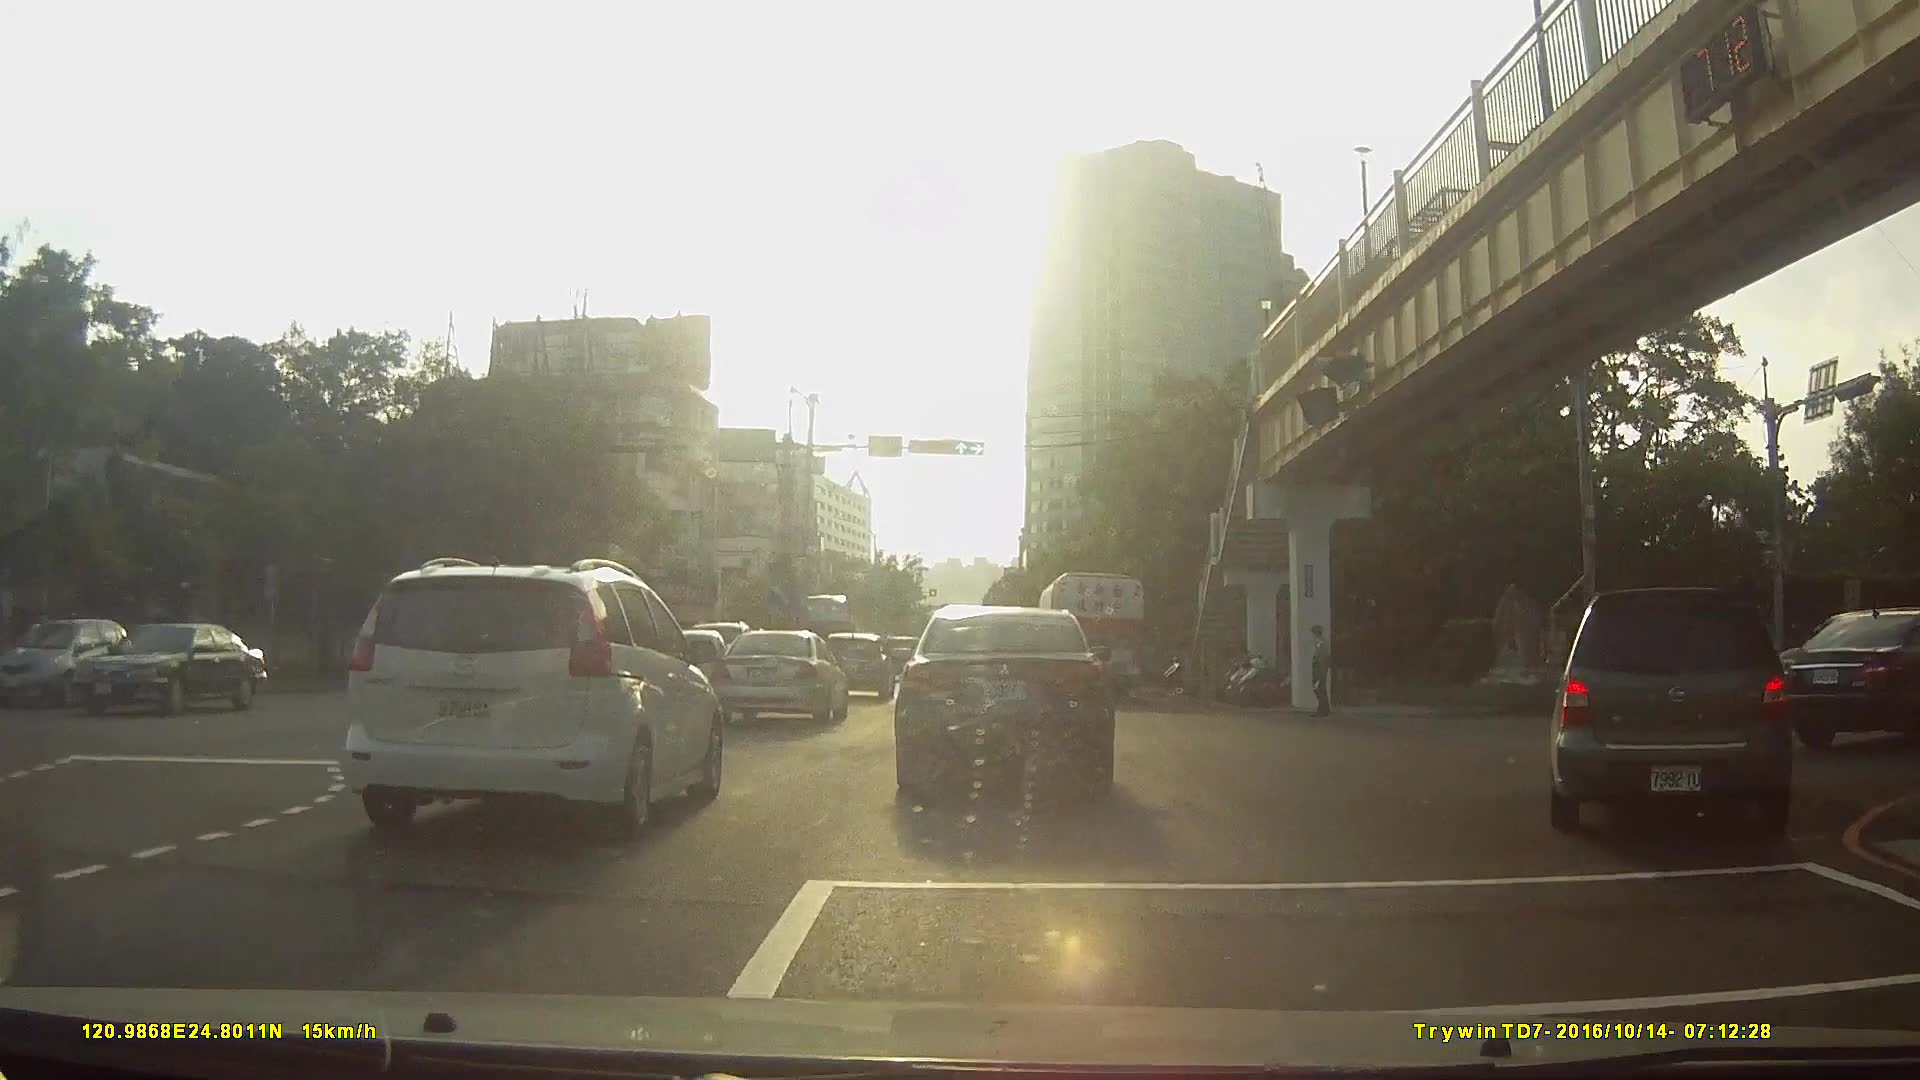pedestrian: (1303, 618, 1341, 721)
vehicle: (341, 551, 722, 836), (1535, 579, 1808, 836), (892, 600, 1112, 804), (57, 621, 281, 728), (1762, 605, 1920, 749), (1034, 570, 1144, 707), (711, 629, 851, 728), (1, 623, 138, 716), (118, 617, 194, 694), (820, 630, 896, 701)
